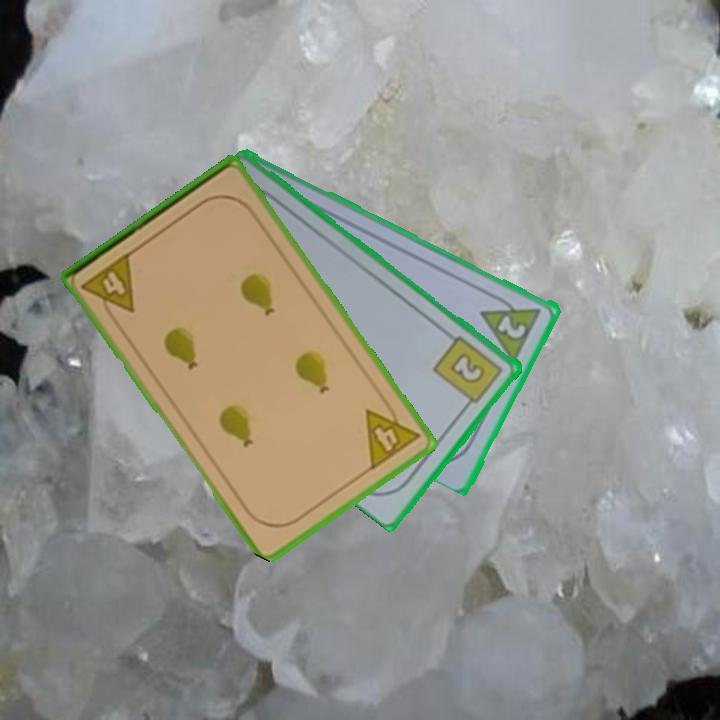2b: (430, 332, 506, 412)
2p: (494, 311, 530, 342)
4p: (362, 394, 423, 474), (77, 248, 138, 326)
